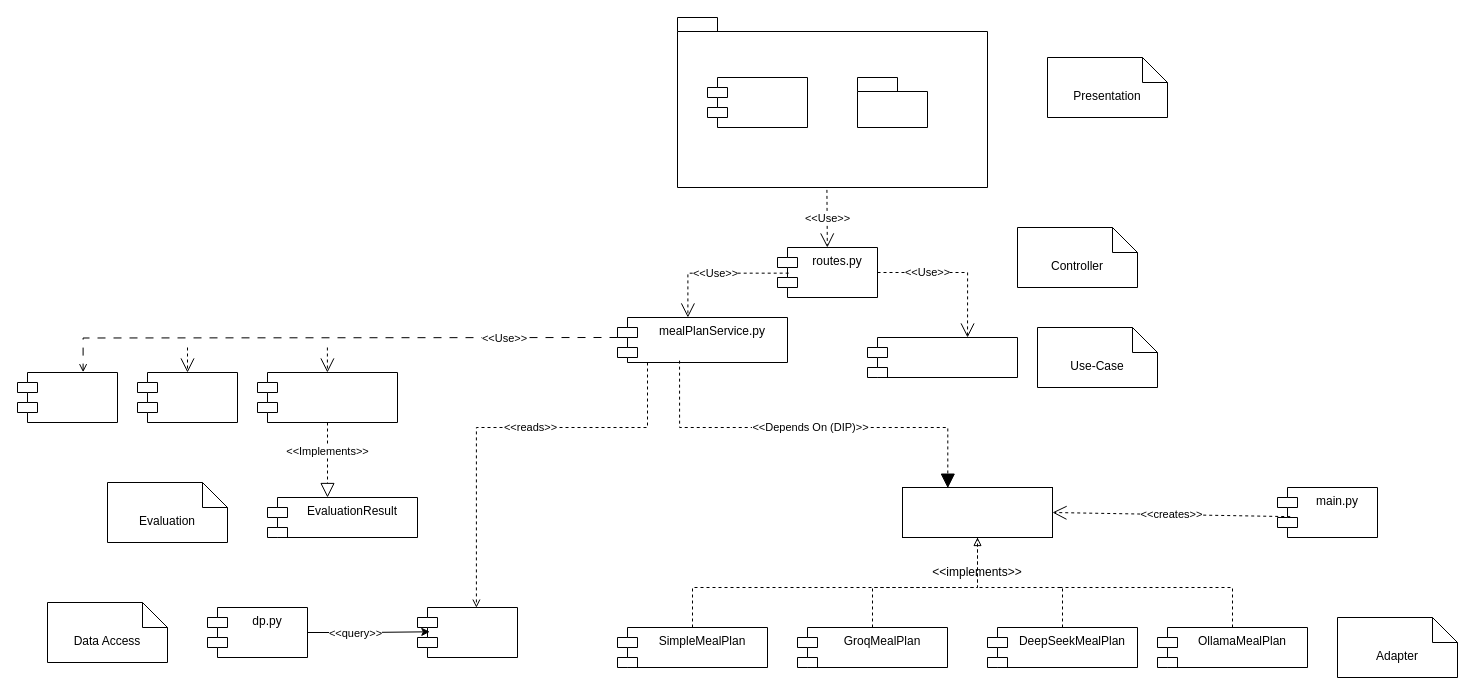
This 1475x695 diagram has some shape labels left out. The shapes that lost their labels are listed below. From the top down, each one's centre as x and y in pixels, then its label:
At point 757,102: "forms.py".
At point 892,102: "templates".
At point 942,357: "macroCalculator".
At point 67,397: "MacroTarget".
At point 187,397: "FoodItem".
At point 327,397: "MealPlanResult".
At point 977,512: "«interface» MealPlanProvidable".
At point 467,632: "models.py".
